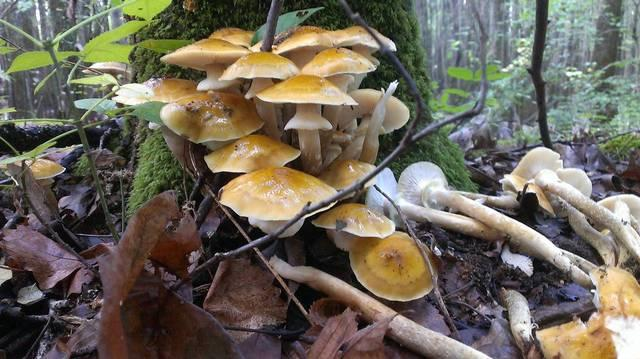Edible Mushroom: (125, 22, 444, 302)
